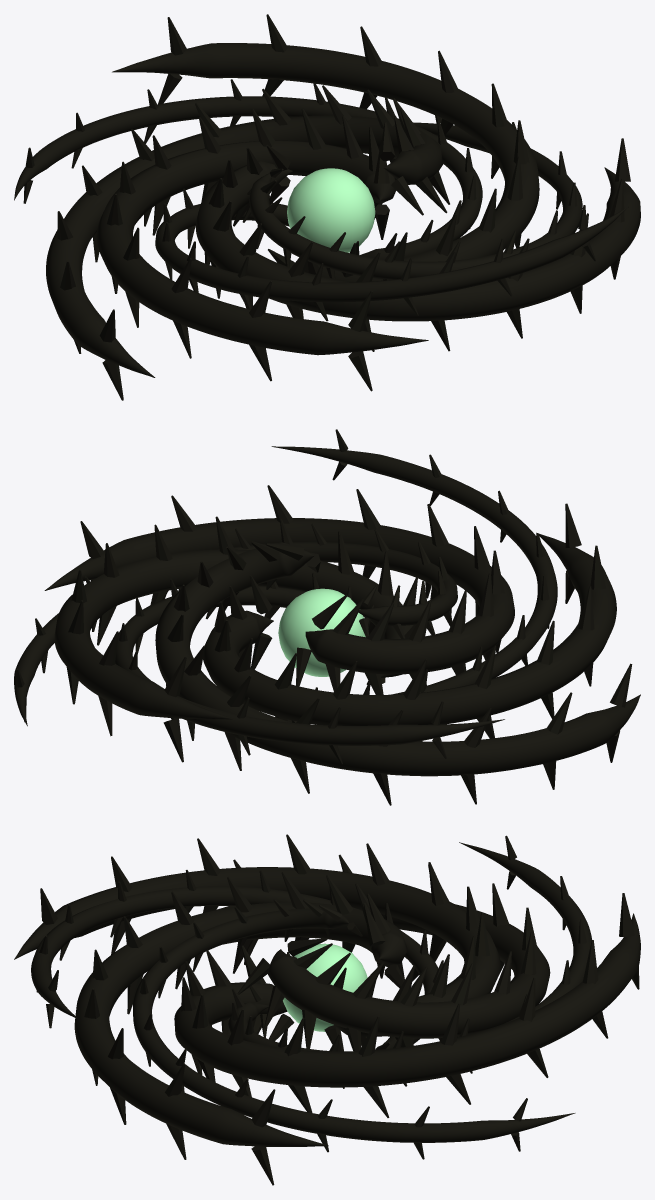
The model's file is strudel.obj.
The picture shows the model from 3 angles, top to bottom: view 1: azimuth 30°, elevation 25°; view 2: azimuth 150°, elevation 25°; view 3: azimuth 270°, elevation 25°; orthographic projection.
Visible parts, largest first — view 1: Strudel; view 2: Strudel; view 3: Strudel.
Part boxes in pixels (x1,y1,x2,y2): Strudel: (14, 14, 640, 400); Strudel: (14, 429, 640, 805); Strudel: (14, 834, 640, 1185).
Bounding box in the file's own units: 31.42 × 10.26 × 31.19.
